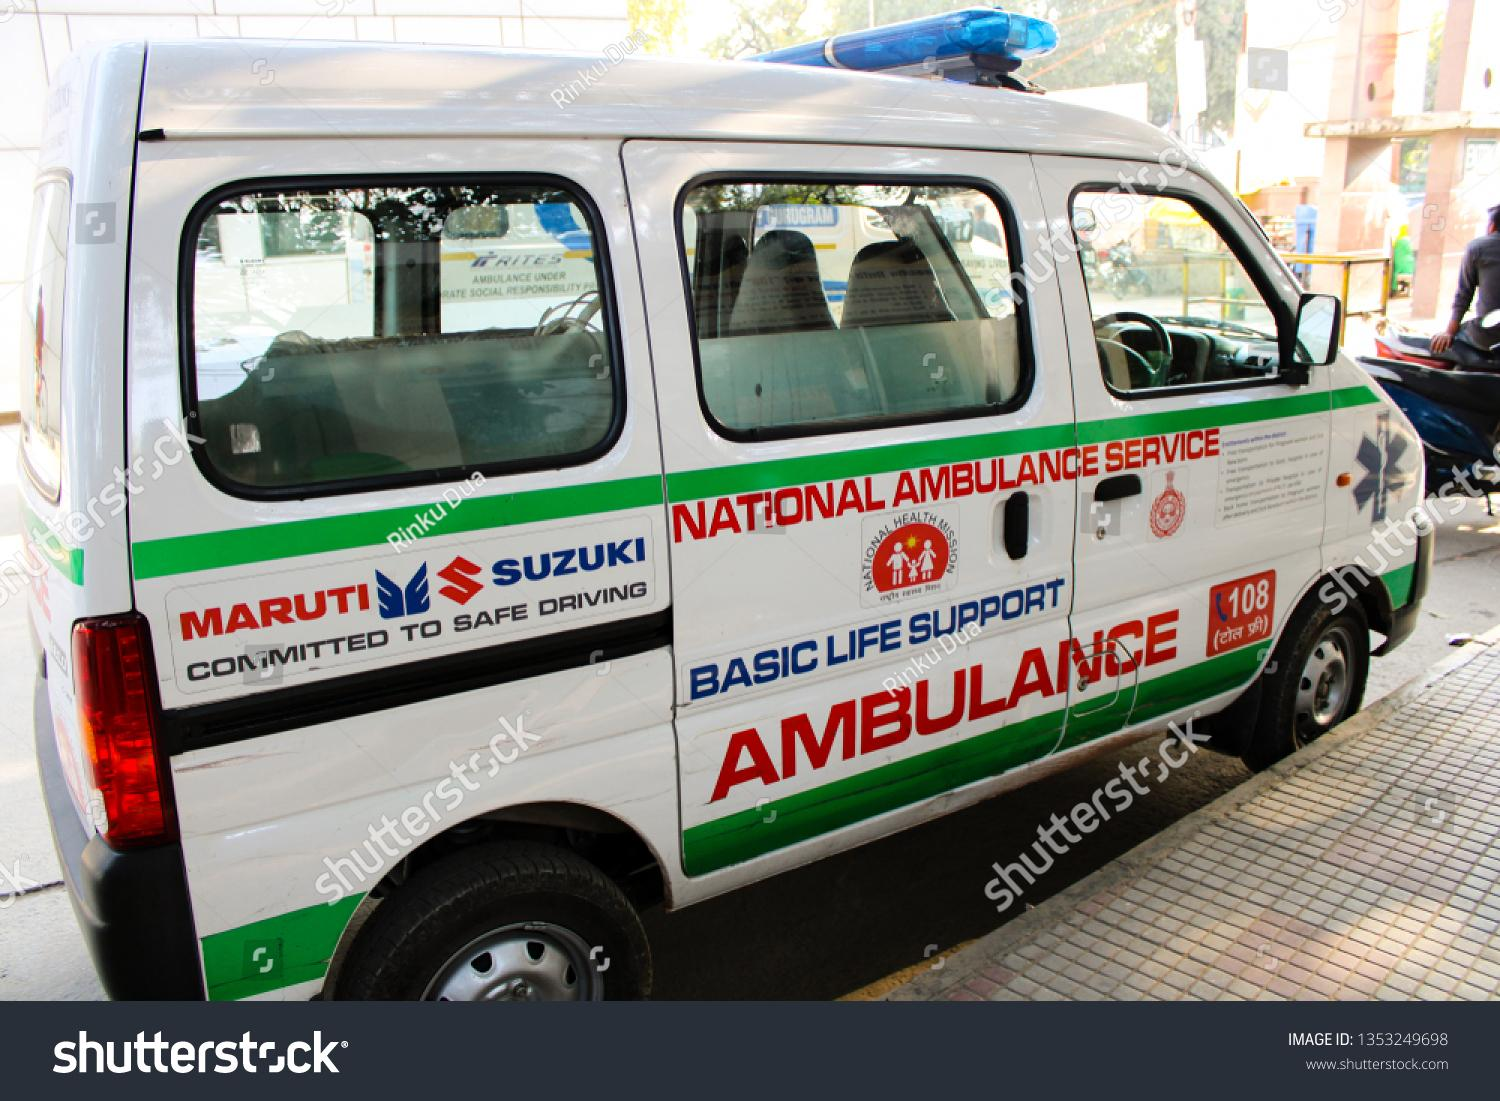ER: (27, 8, 1435, 1000)
